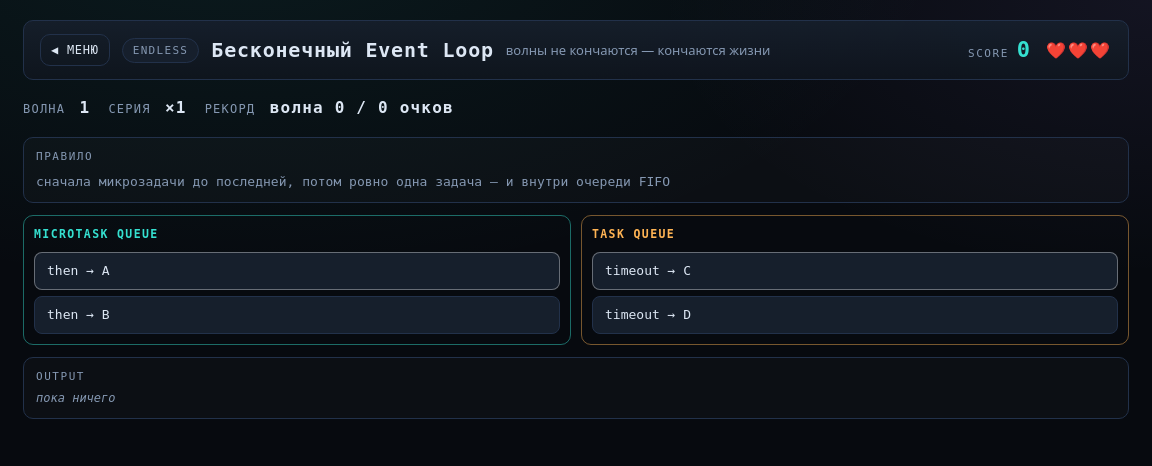
Test: экран бесконечного режима › нарушение правил › объясняет ошибку и снимает жизнь
Click the button with class "chip" showing "timeout → C": {"x": 648, "y": 270} [592, 252, 1118, 290]
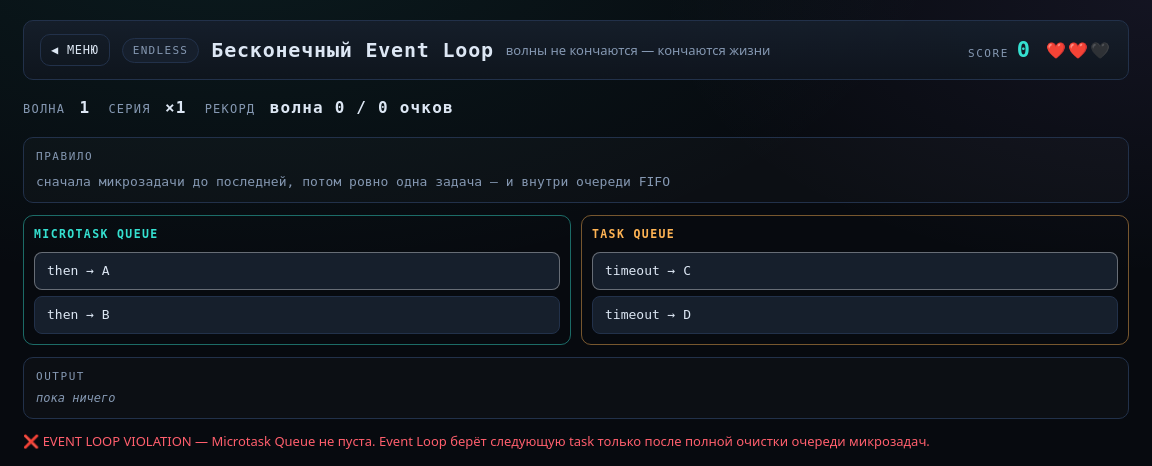
Check: the text "EVENT LOOP VIOLATION" shows "Microtask Queue не пуста", box [43, 432, 930, 450]
